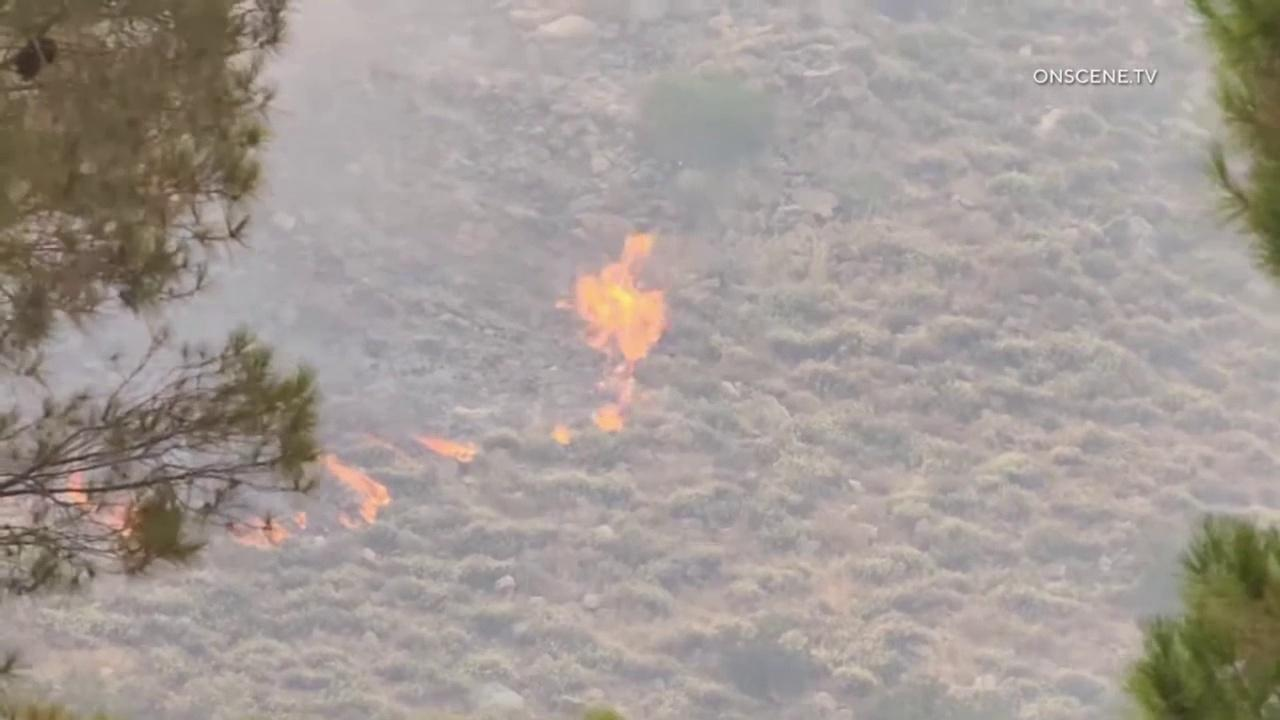fire: (553, 232, 671, 435), (312, 450, 393, 530), (58, 469, 145, 539), (408, 425, 479, 468), (223, 513, 291, 551), (544, 425, 575, 446), (289, 507, 312, 534)
smoke: (0, 0, 1280, 720)
